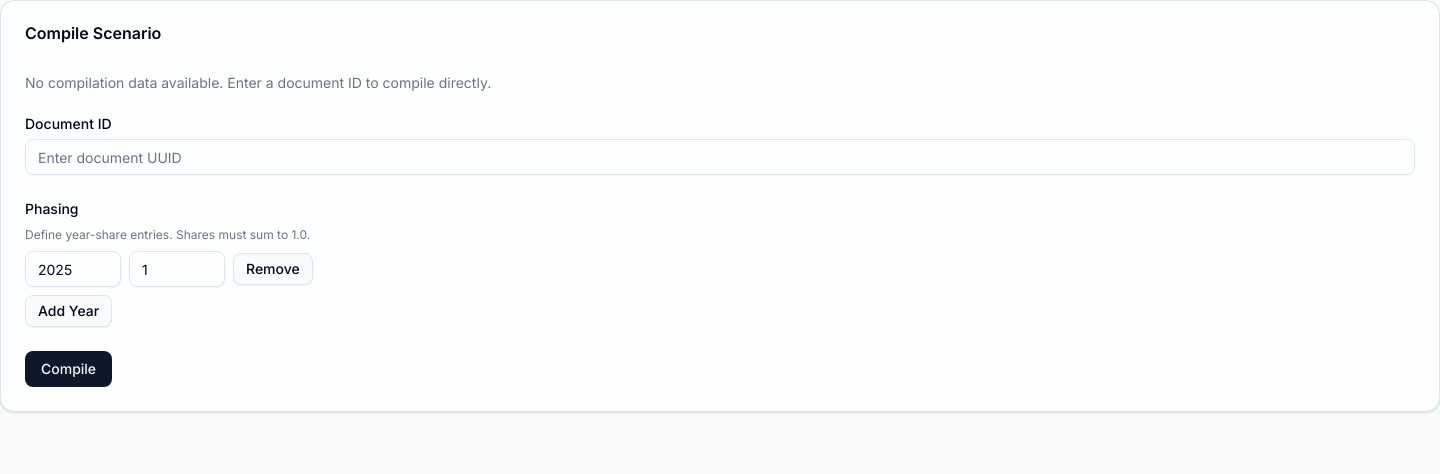
Scenario: ScenarioCompileForm › phasing editor › removes a phasing entry when remove button is clicked
Note: Add a second entry
Click the button "Add Year".
click(69, 311)  # box [25, 295, 112, 327]
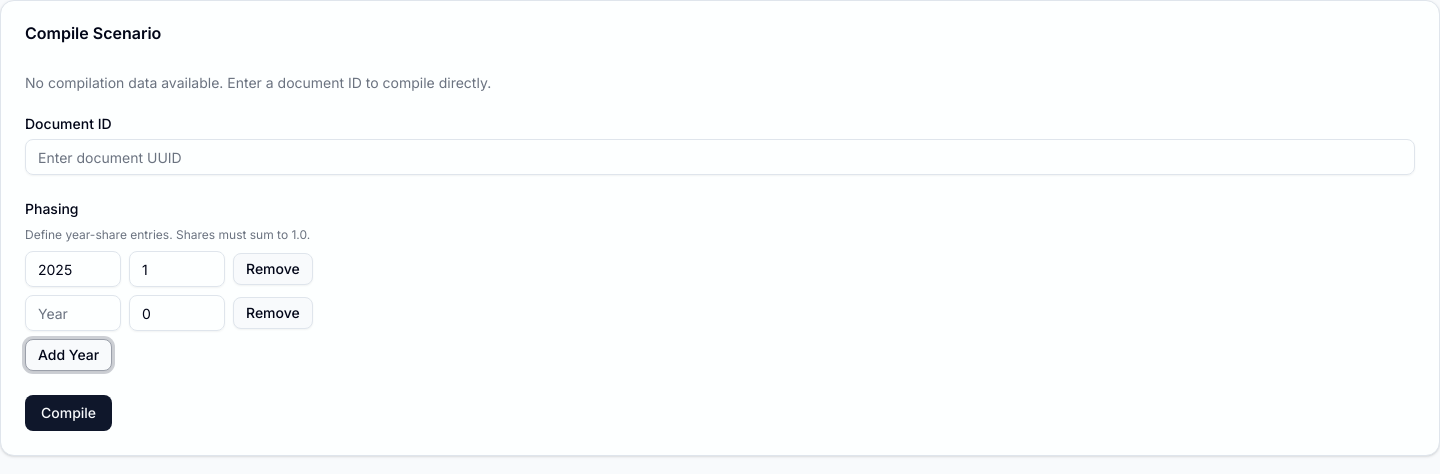
Click the 1st button "Remove".
click(273, 269)  # box [233, 253, 313, 285]
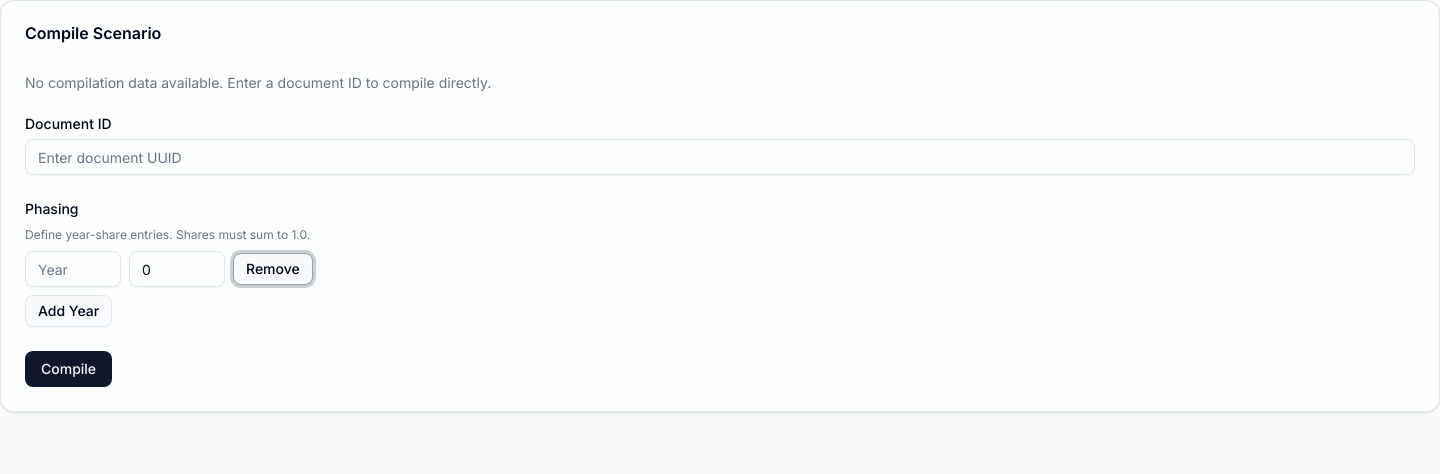
Expected: the number of fields with placeholder "Year" is 1, [25, 251, 121, 287]
